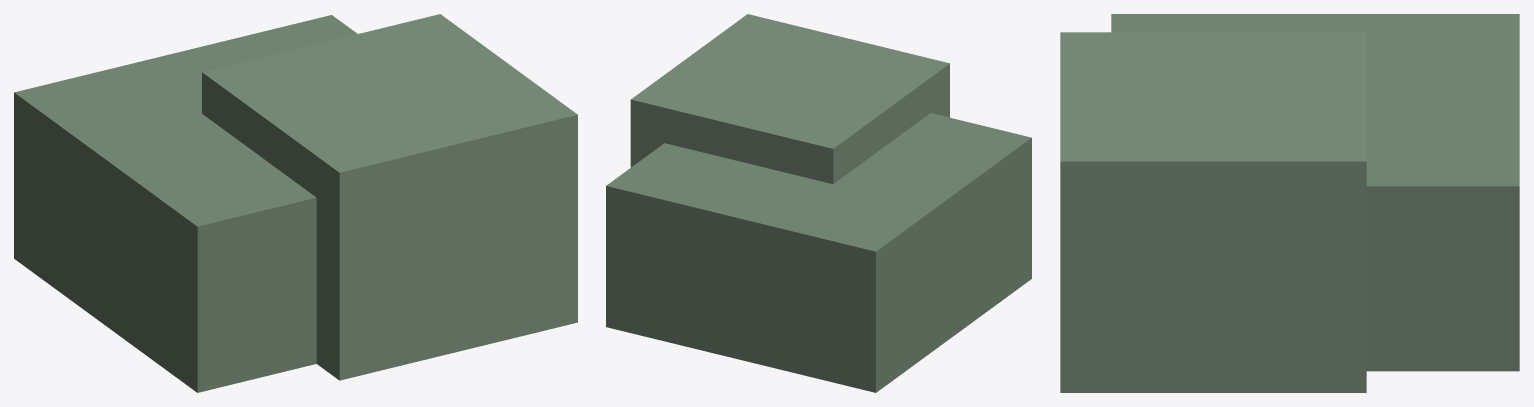
File: roca_musgosa_01.glb
3 views of the same model, side by side, from view 1: azimuth 30°, elevation 25°; view 2: azimuth 150°, elevation 25°; view 3: azimuth 270°, elevation 25° (orthographic). The views are drawn at different scales.
Visible parts, largest first — view 1: roca_musgosa_01; view 2: roca_musgosa_01; view 3: roca_musgosa_01.
Part boxes in pixels (left/top/right/bottom): roca_musgosa_01: left=14, top=14, right=577, bottom=392; roca_musgosa_01: left=606, top=14, right=1031, bottom=392; roca_musgosa_01: left=1060, top=14, right=1519, bottom=392.
Bounding box in the file's own units: 0.9 × 0.5 × 0.9.
